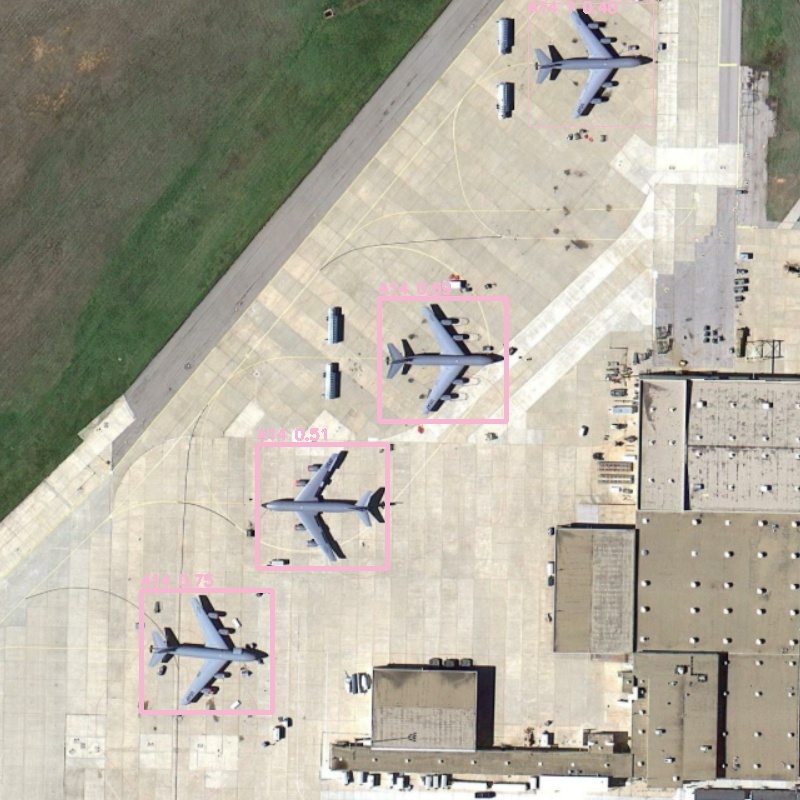A14: (257, 444, 387, 568), (141, 590, 272, 712), (379, 298, 506, 421), (528, 3, 653, 126)
